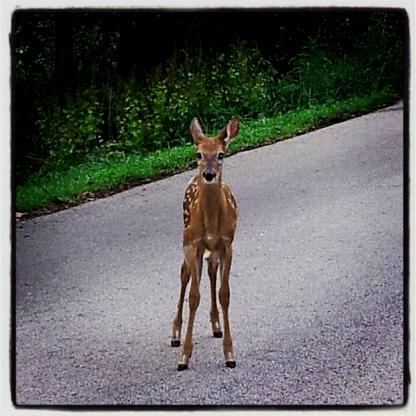Deer: (170, 115, 239, 370)
